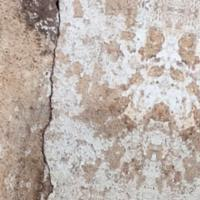crack: (31, 0, 82, 199)
